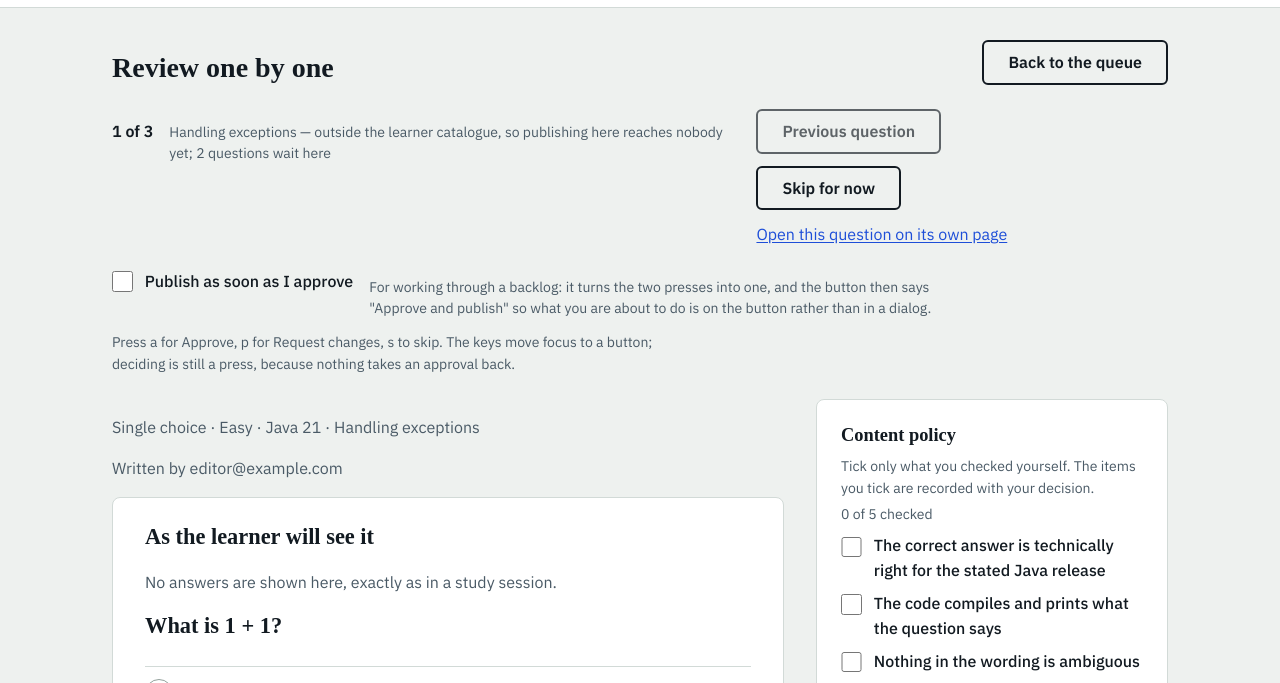
Test case: an account that also publishes › puts what the press will do on the button, not in a dialog
What coordinates should you click on to do the following:
click the checkbox labelled "Publish as soon as I approve"
I would click on:
 (122, 281)
Its box is [112,271,133,292].
(page scrolled)
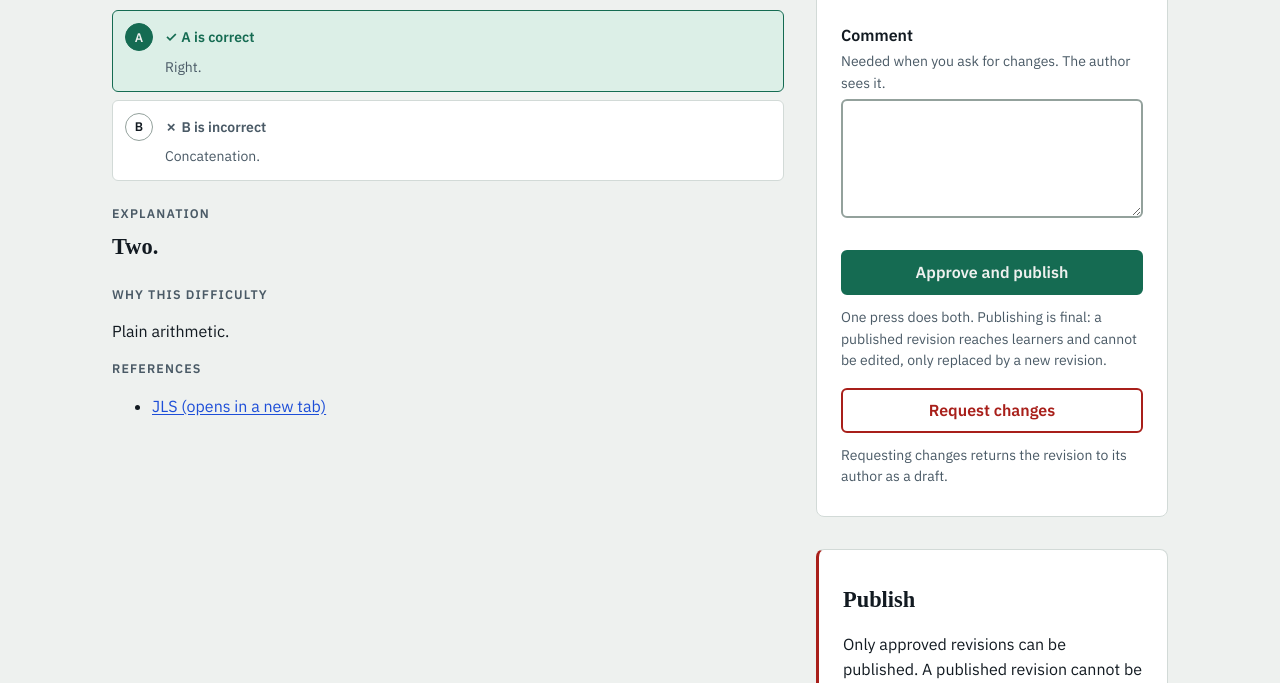
Expected: the button "Approve and publish" is shown, [841,250,1143,295]
Expected: the text "Publishing is final" is shown, [841,308,1137,369]
